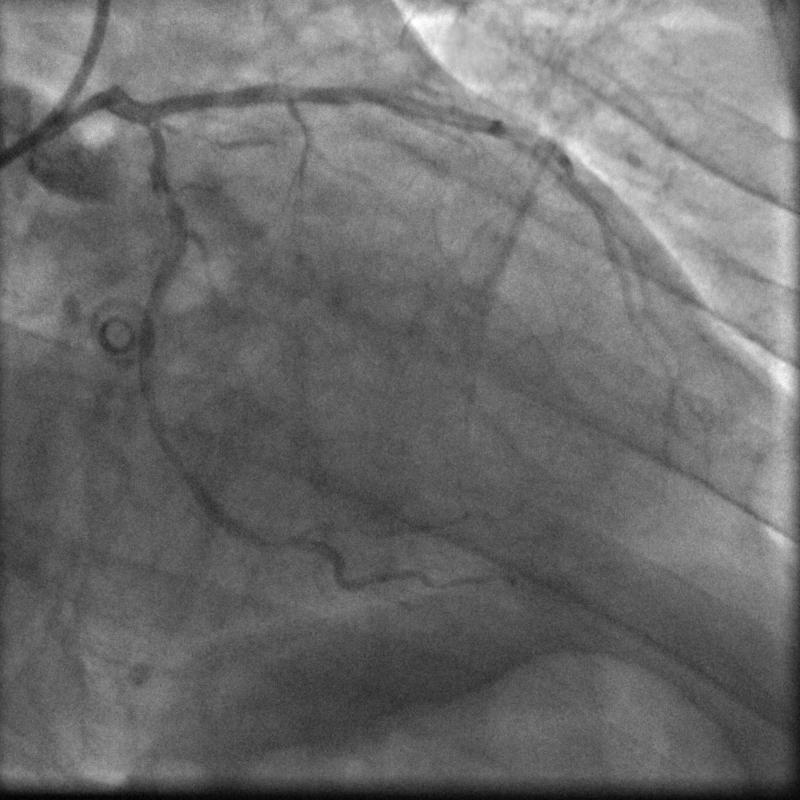Stenosis: (161, 191, 177, 205)
